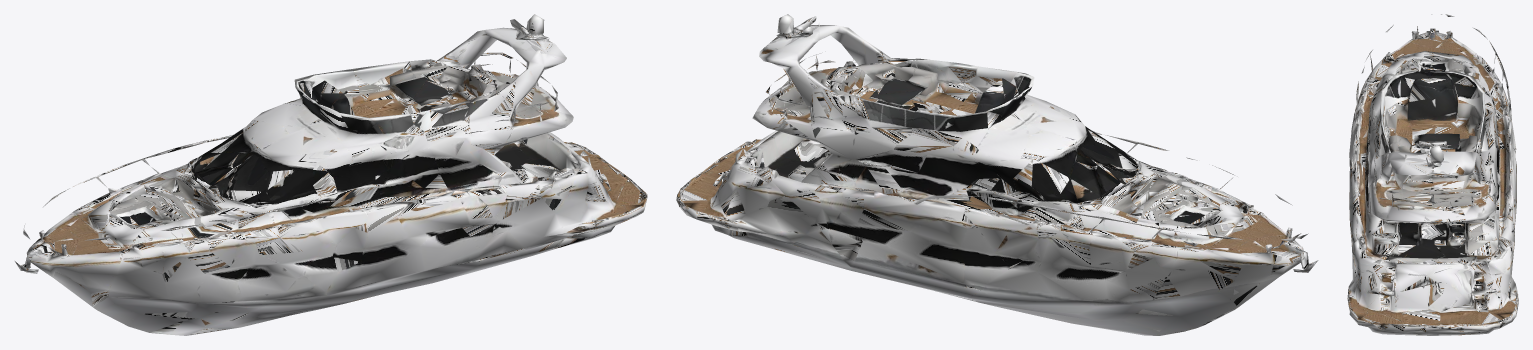
File: yacht.glb
3 views of the same model, side by side, from view 1: azimuth 30°, elevation 25°; view 2: azimuth 150°, elevation 25°; view 3: azimuth 270°, elevation 25° (orthographic). The views are drawn at different scales.
Parts seen in each view (by area): view 1: Mesh_0; view 2: Mesh_0; view 3: Mesh_0.
Boxes of the visible parts, x1=… form: Mesh_0: x1=15, y1=14, x2=647, y2=335; Mesh_0: x1=676, y1=14, x2=1318, y2=335; Mesh_0: x1=1347, y1=14, x2=1518, y2=335.
Bounding box in the file's own units: 21.97 × 8.31 × 6.34.
Materials: 1 (1 with a texture image).
